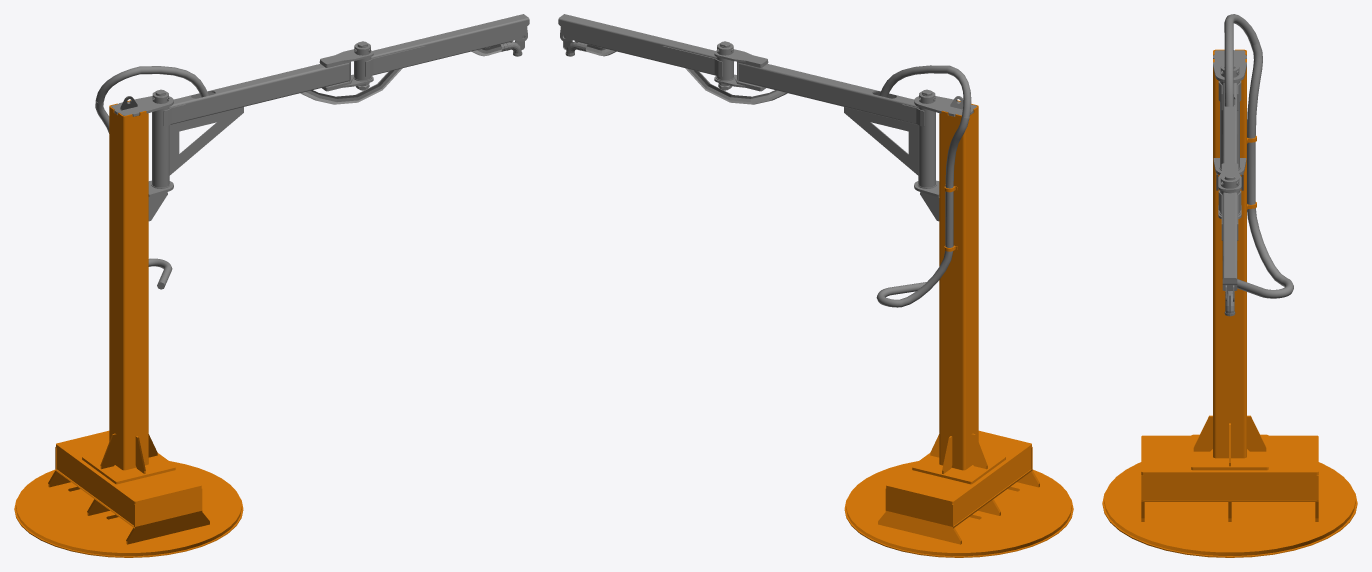
File: aardwolf_all_part_Mobile Articulated Jib Crane-Two Arm@p1_-87_0_0@p2_2612_0_2405.fbx
3 renders of one model, left to right at view 1: azimuth 30°, elevation 25°; view 2: azimuth 150°, elevation 25°; view 3: azimuth 270°, elevation 25°, orthographic. The views are drawn at different scales.
Parts seen in each view (by area): view 1: aardwolf_all_part_obj304, aardwolf_all_part_obj155, Object102, Shape010; view 2: aardwolf_all_part_obj304, aardwolf_all_part_obj155, Object102, Shape010; view 3: aardwolf_all_part_obj155, aardwolf_all_part_obj304, Object102, Shape010.
Boxes of the visible parts, bbox=[...] form: aardwolf_all_part_obj304: bbox=[109, 14, 529, 470]; aardwolf_all_part_obj155: bbox=[14, 430, 243, 557]; Object102: bbox=[95, 66, 208, 289]; Shape010: bbox=[82, 451, 175, 484]; aardwolf_all_part_obj304: bbox=[558, 14, 978, 470]; aardwolf_all_part_obj155: bbox=[844, 430, 1073, 557]; Object102: bbox=[876, 65, 971, 307]; Shape010: bbox=[912, 451, 1005, 484]; aardwolf_all_part_obj155: bbox=[1102, 415, 1357, 557]; aardwolf_all_part_obj304: bbox=[1213, 49, 1246, 458]; Object102: bbox=[1224, 14, 1293, 298]; Shape010: bbox=[1191, 434, 1268, 470].
Bounding box in the file's own units: 3304 × 2802 × 1320.
